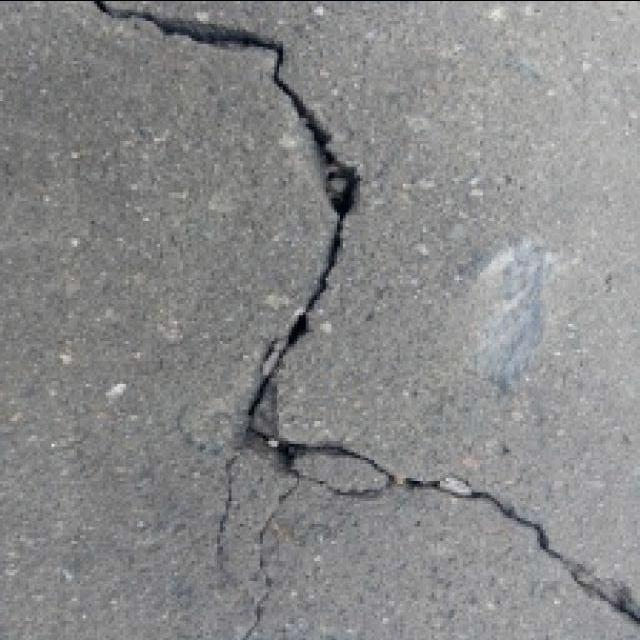SurfaceCrack: (72, 0, 380, 410), (192, 360, 640, 640)
